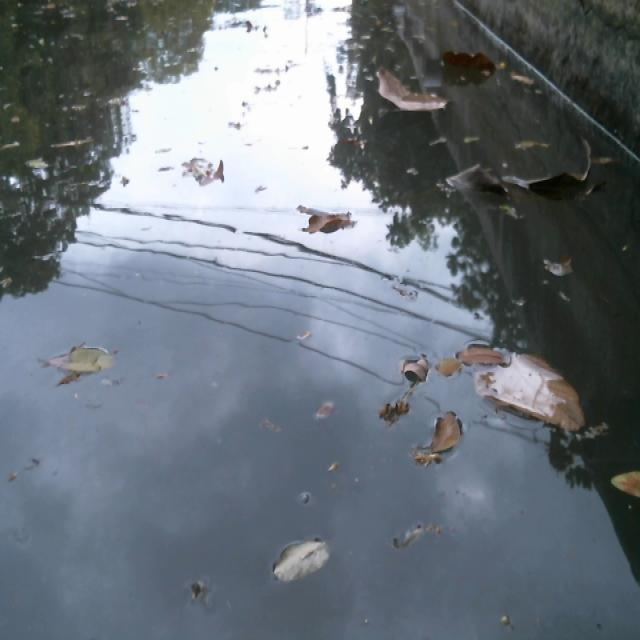Big-leaf: (468, 336, 588, 430), (499, 137, 602, 202), (372, 65, 452, 115), (439, 159, 511, 211), (439, 43, 500, 86)
Small-leaf: (268, 535, 333, 587), (298, 202, 361, 240), (416, 410, 470, 452), (43, 345, 113, 376), (182, 150, 232, 189), (605, 448, 640, 498), (455, 337, 507, 365), (377, 388, 413, 427), (398, 349, 433, 384), (542, 251, 579, 280), (434, 350, 465, 379)
